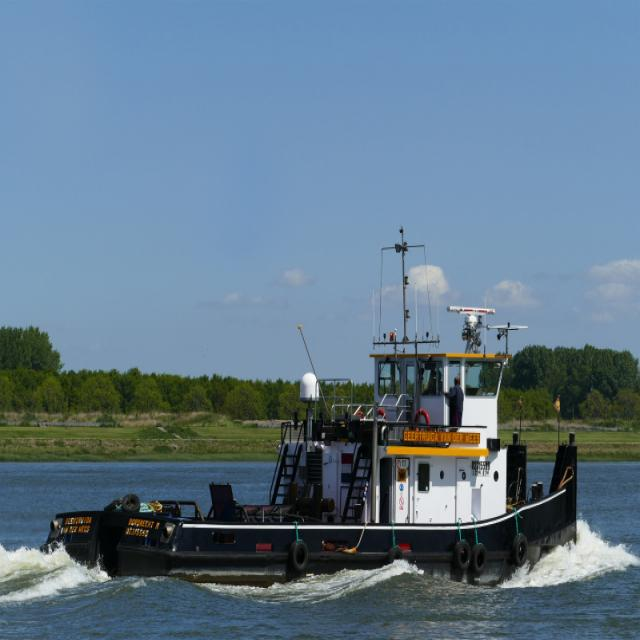tugboat: (40, 300, 583, 601)
